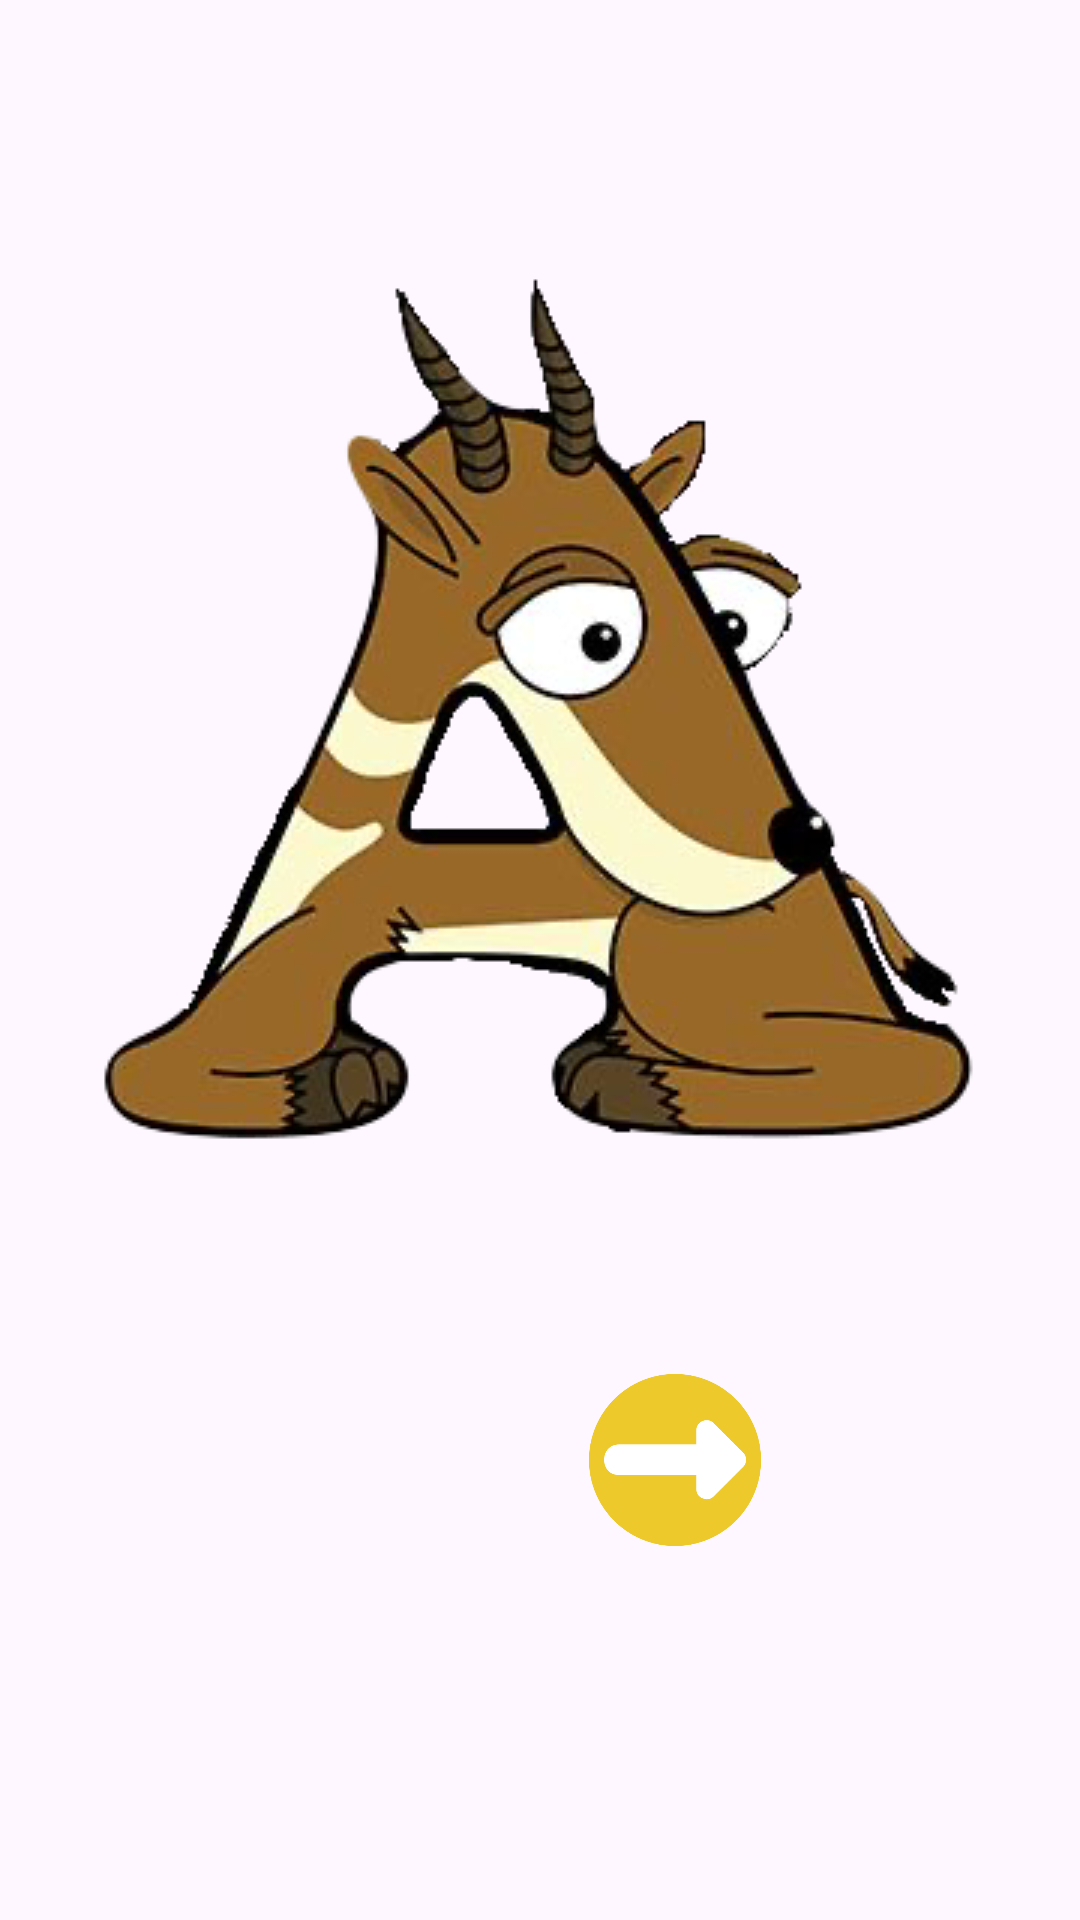

Where icons sit on this 1080x1920 app screen, as box=[x1, y1, x2, y2]:
next: box=[589, 1374, 761, 1546]
